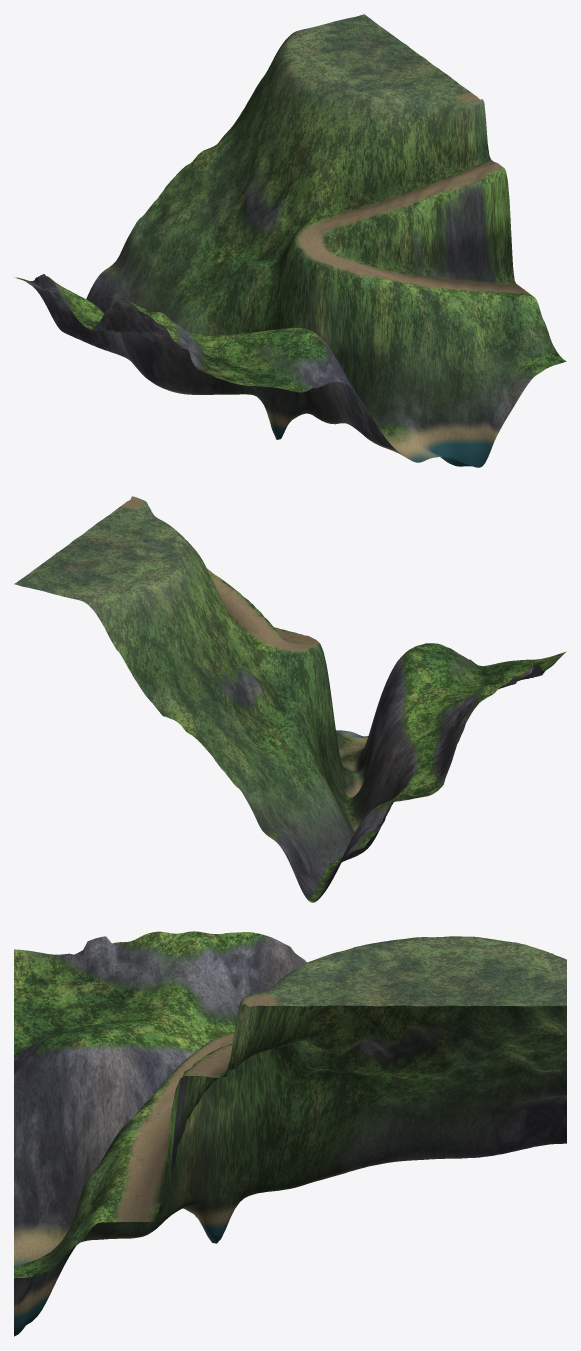
The picture shows the model from 3 angles, top to bottom: view 1: azimuth 30°, elevation 25°; view 2: azimuth 150°, elevation 25°; view 3: azimuth 270°, elevation 25°; orthographic projection. The views are drawn at different scales.
Parts seen in each view (by area): view 1: t064_128; view 2: t064_128; view 3: t064_128.
Boxes of the visible parts, x1,y1,x2,y2 form: t064_128: (14,14,566,467); t064_128: (14,496,566,902); t064_128: (14,931,566,1336).
Bounding box in the file's own units: 64 × 49.84 × 64.
1 material, 1 textured.
